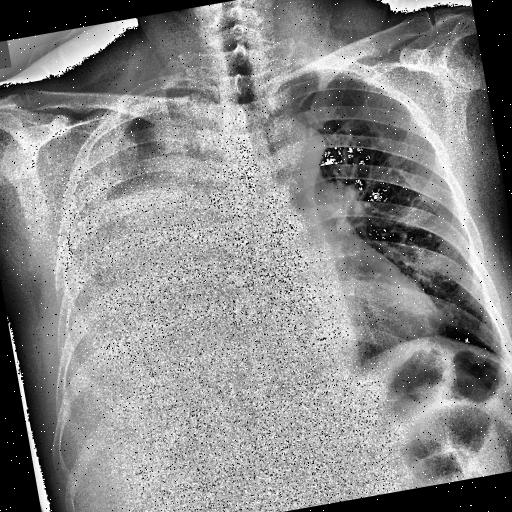10- Pleural effusion: (6, 69, 268, 450), (8, 67, 274, 438), (0, 81, 281, 431)
7- Lung Opacity: (124, 86, 220, 170)
9- Other lesion: (6, 69, 268, 450)
